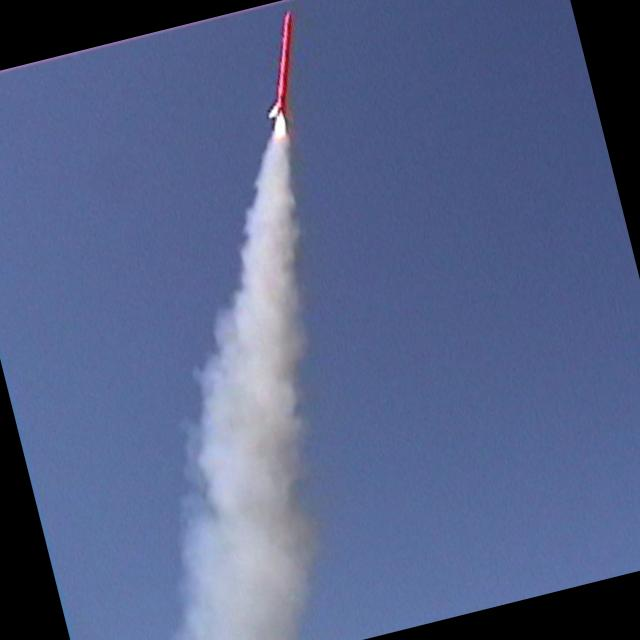rocket: (191, 7, 367, 343)
